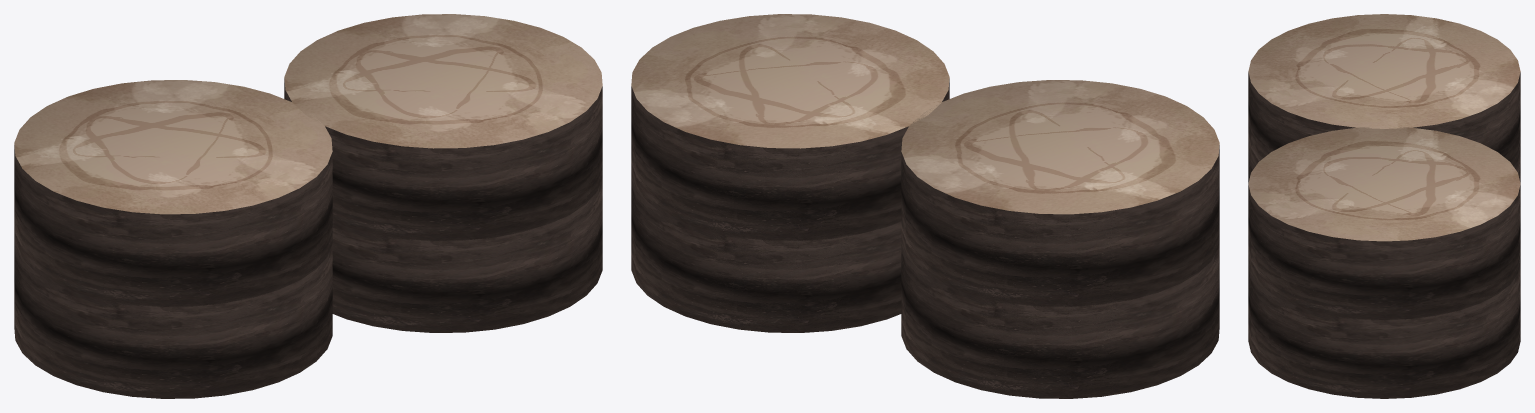
File: simplecraftingtable.fbx
3 views of the same model, side by side, from view 1: azimuth 30°, elevation 25°; view 2: azimuth 150°, elevation 25°; view 3: azimuth 270°, elevation 25° (orthographic). The views are drawn at different scales.
Parts seen in each view (by area): view 1: Cylinder.002, Cylinder.003, Cylinder, Cylinder.001; view 2: Cylinder.002, Cylinder.003, Cylinder, Cylinder.001; view 3: Cylinder.003, Cylinder.002, Cylinder.001.
Part boxes in pixels (x1,y1,x2,y2): Cylinder.002: [14, 80, 332, 306]; Cylinder.003: [284, 14, 602, 240]; Cylinder: [14, 237, 332, 398]; Cylinder.001: [332, 178, 602, 332]; Cylinder.002: [901, 80, 1219, 306]; Cylinder.003: [631, 14, 949, 240]; Cylinder: [901, 237, 1219, 398]; Cylinder.001: [631, 178, 901, 332]; Cylinder.003: [1248, 127, 1520, 319]; Cylinder.002: [1248, 14, 1520, 166]; Cylinder.001: [1248, 263, 1520, 398].
Bounding box in the file's own units: 1.98 × 0.6385 × 1.
